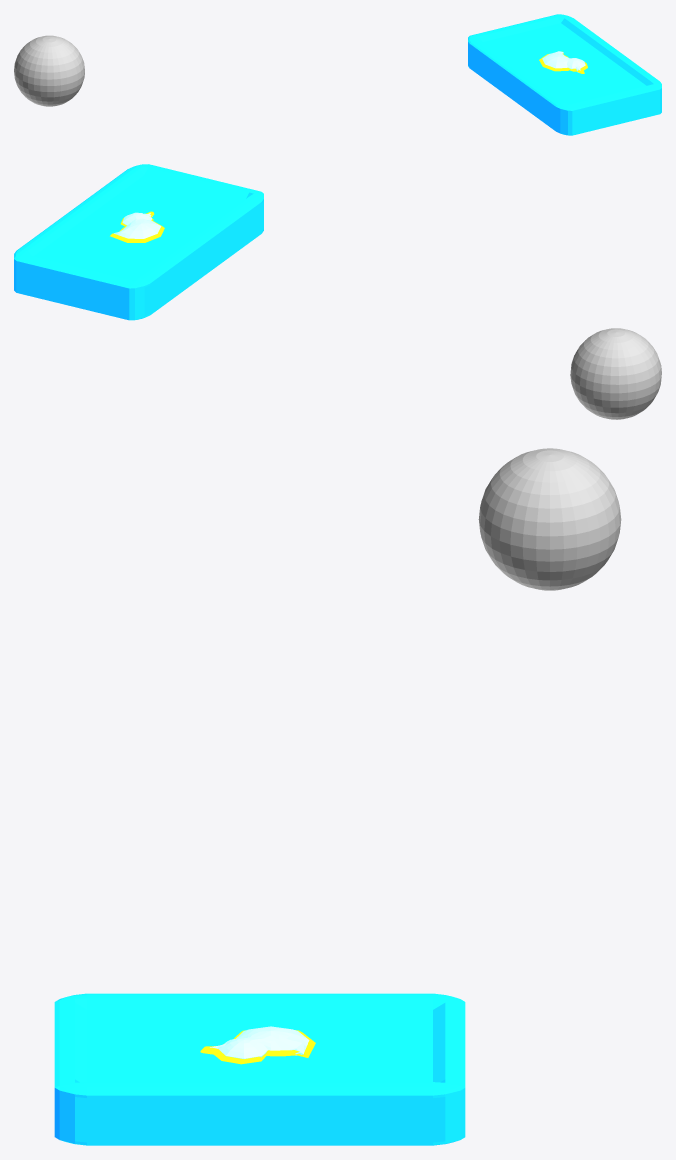
The model's file is REALREALDuckBarOfSoap.fbx.
3 views of the same model, one above another, from view 1: azimuth 30°, elevation 25°; view 2: azimuth 150°, elevation 25°; view 3: azimuth 270°, elevation 25° (orthographic). The views are drawn at different scales.
Parts seen in each view (by area): view 1: Soap, Sphere.003, Sphere.001; view 2: Soap, Sphere.003, Sphere.001; view 3: Soap, Sphere.003, Sphere.001.
Boxes of the visible parts, bbox=[...] form: Soap: bbox=[468, 14, 661, 135]; Sphere.003: bbox=[14, 35, 84, 106]; Sphere.001: bbox=[542, 51, 585, 72]; Soap: bbox=[14, 164, 263, 320]; Sphere.003: bbox=[570, 328, 661, 419]; Sphere.001: bbox=[114, 212, 161, 238]; Soap: bbox=[54, 993, 465, 1145]; Sphere.003: bbox=[478, 448, 621, 590]; Sphere.001: bbox=[210, 1026, 309, 1058].
Size of the model in its own units: 1704 by 328 by 795.
